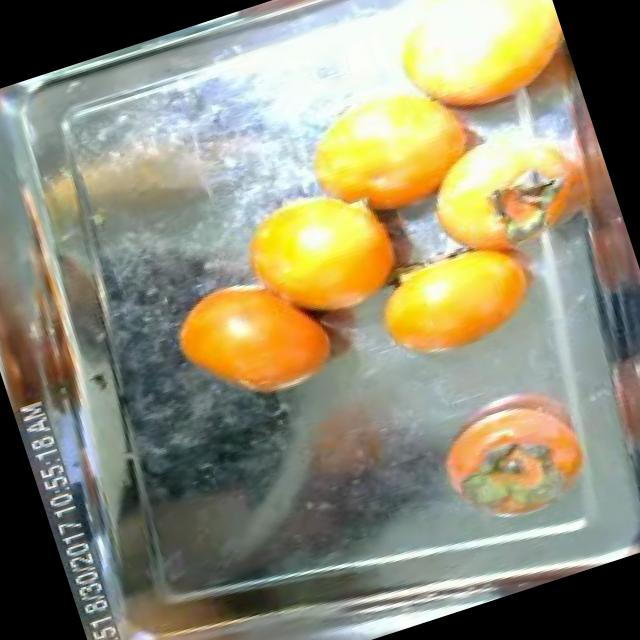Fruit: (272, 54, 496, 244), (148, 244, 358, 435), (215, 162, 426, 352), (410, 360, 612, 550), (348, 212, 567, 385)
